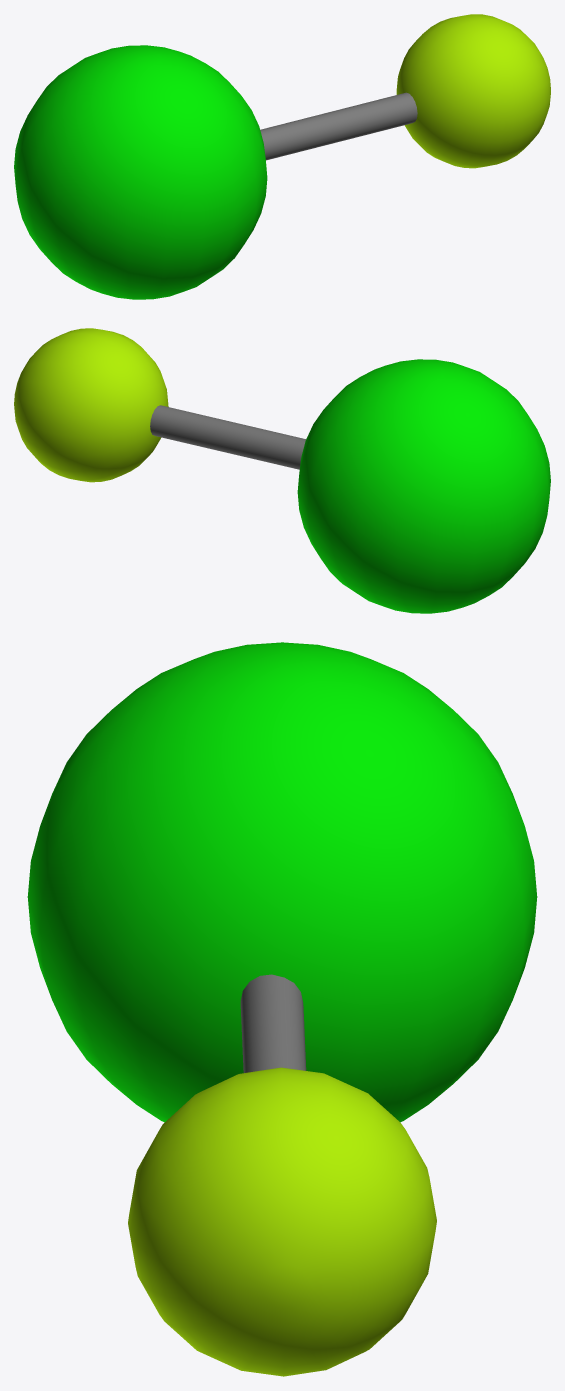
The model's file is HCl.fbx.
3 views of the same model, one above another, from view 1: azimuth 30°, elevation 25°; view 2: azimuth 150°, elevation 25°; view 3: azimuth 270°, elevation 25° (orthographic). The views are drawn at different scales.
Visible parts, largest first — view 1: HCl; view 2: HCl; view 3: HCl.
Boxes of the visible parts, bbox=[...] form: HCl: bbox=[14, 14, 550, 299]; HCl: bbox=[14, 328, 550, 613]; HCl: bbox=[27, 642, 537, 1376].
Size of the model in its own units: 6.09 by 2.63 by 2.63.
